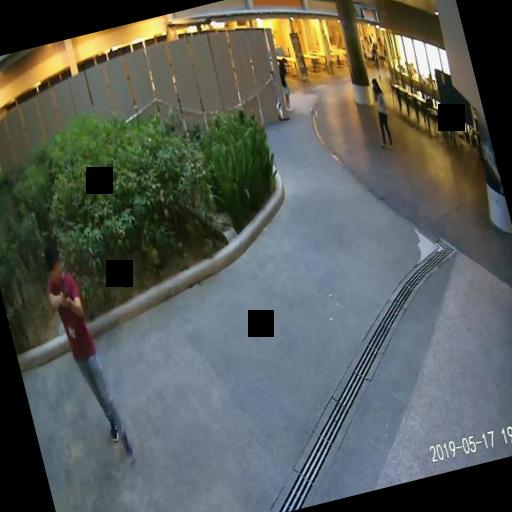Handgun: (56, 282, 70, 306)
